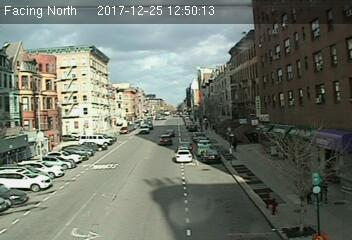car: (201, 148, 221, 164), (175, 149, 194, 163), (159, 135, 172, 146)
